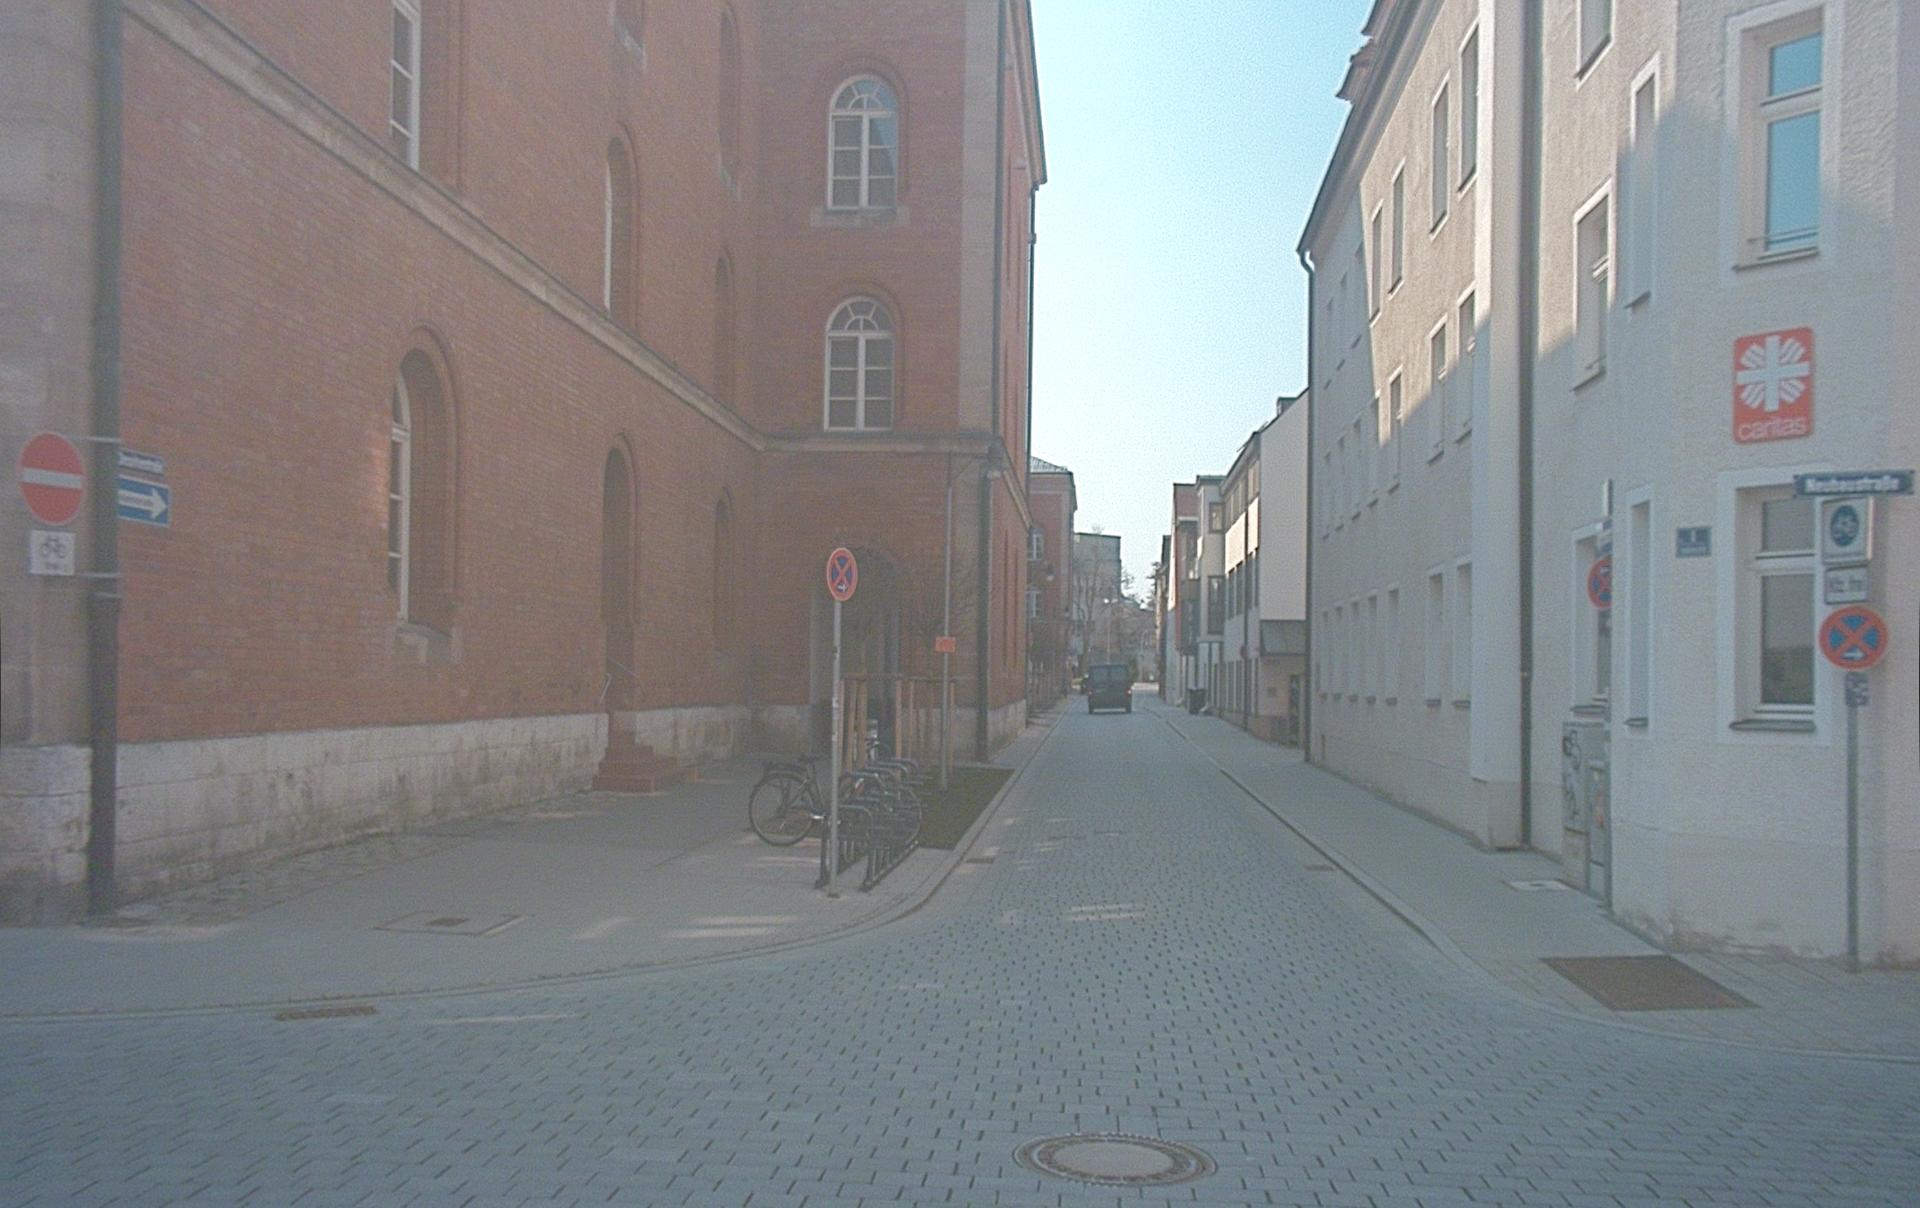car: (1085, 662, 1134, 714)
traffic sign: (1793, 469, 1916, 497), (115, 473, 173, 526), (117, 447, 166, 476)
